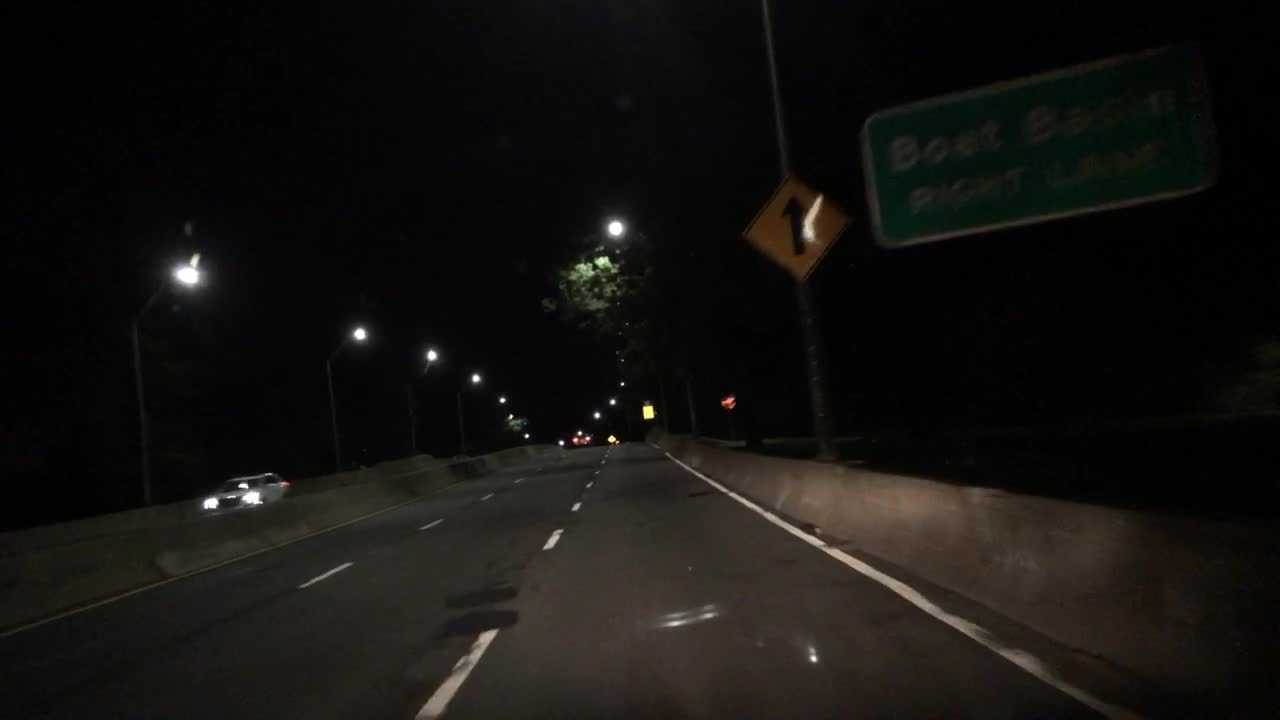car: (198, 471, 293, 511), (571, 430, 595, 448)
traffic sign: (860, 30, 1237, 259), (745, 177, 850, 278), (642, 403, 654, 420), (607, 434, 616, 444)
